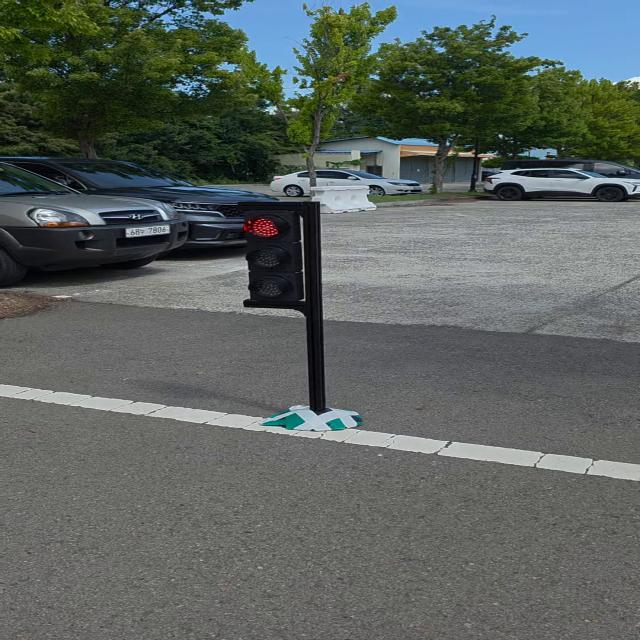red: (233, 205, 331, 313)
